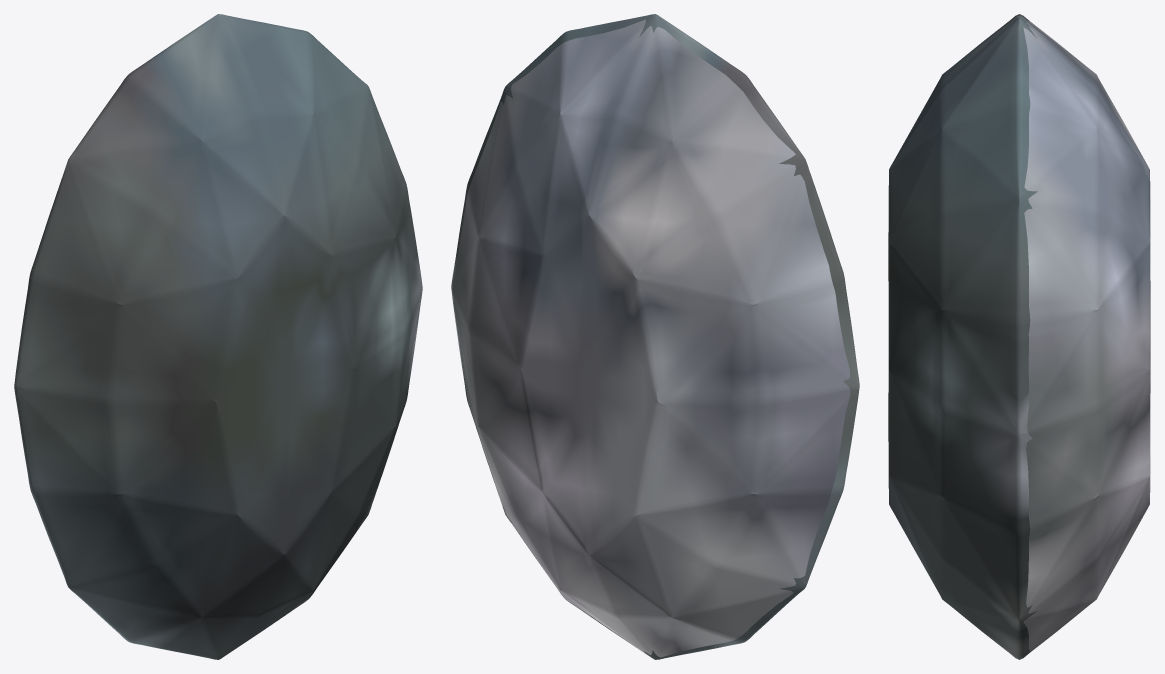
Rendered from sm73_111_virginheart01.fbx.
The picture shows the model from 3 angles, left to right: view 1: azimuth 30°, elevation 25°; view 2: azimuth 150°, elevation 25°; view 3: azimuth 270°, elevation 25°; orthographic projection.
Visible parts, largest first — view 1: LOD_1_Group_101_Sub_1__sm41_012_WallClock01A_A_Mat; view 2: LOD_1_Group_101_Sub_1__sm41_012_WallClock01A_A_Mat; view 3: LOD_1_Group_101_Sub_1__sm41_012_WallClock01A_A_Mat.
Part boxes in pixels (left/top/right/bottom): LOD_1_Group_101_Sub_1__sm41_012_WallClock01A_A_Mat: left=14, top=14, right=422, bottom=659; LOD_1_Group_101_Sub_1__sm41_012_WallClock01A_A_Mat: left=451, top=14, right=859, bottom=659; LOD_1_Group_101_Sub_1__sm41_012_WallClock01A_A_Mat: left=888, top=14, right=1150, bottom=659.
Bounding box in the file's own units: 0.0602 × 0.091 × 0.034.
